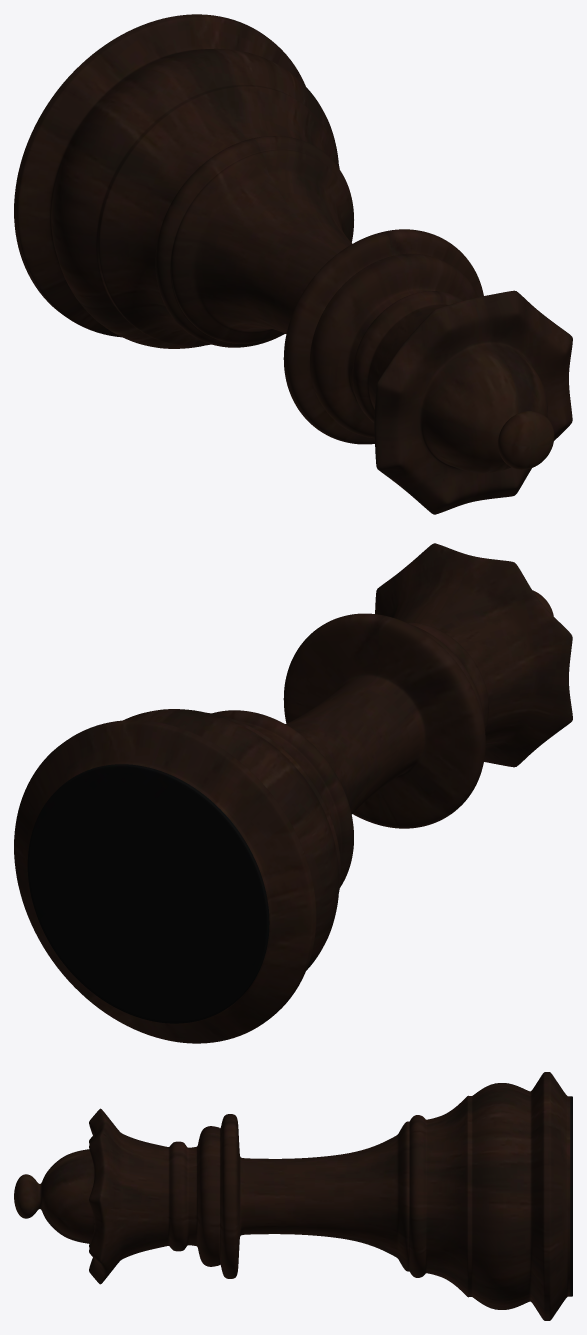
Rendered from queen.glb.
3 renders of one model, top to bottom at view 1: azimuth 30°, elevation 25°; view 2: azimuth 150°, elevation 25°; view 3: azimuth 270°, elevation 25°, orthographic. The views are drawn at different scales.
Visible parts, largest first — view 1: Node1; view 2: Node1; view 3: Node1.
Boxes of the visible parts, x1,y1,x2,y2 form: Node1: (14,14,572,514); Node1: (14,543,572,1043); Node1: (14,1072,572,1320).
Size of the model in its own units: 4.63 by 4.63 by 10.4.
Materials: 1 (1 with a texture image).
